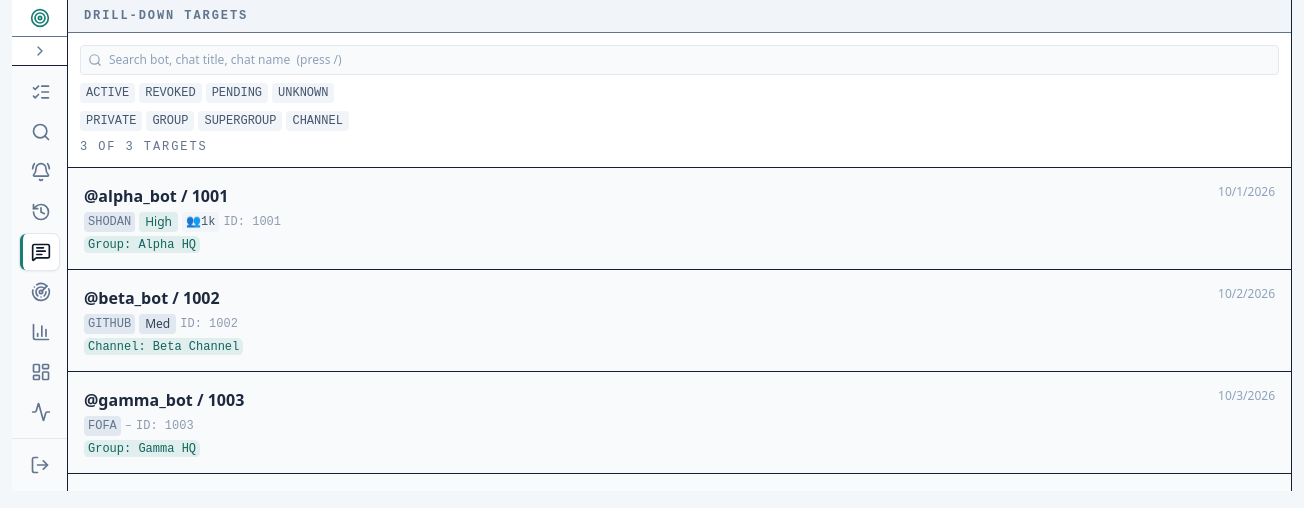
Test: Sidebar › combines a status chip with the text query using AND semantics
This screenshot has width=1304, height=508.
Expected: the text "3 of 3 targets" is shown, [80,140,208,154]
Step 1. Click the button "active" → (108, 93), box [80,83,135,103]
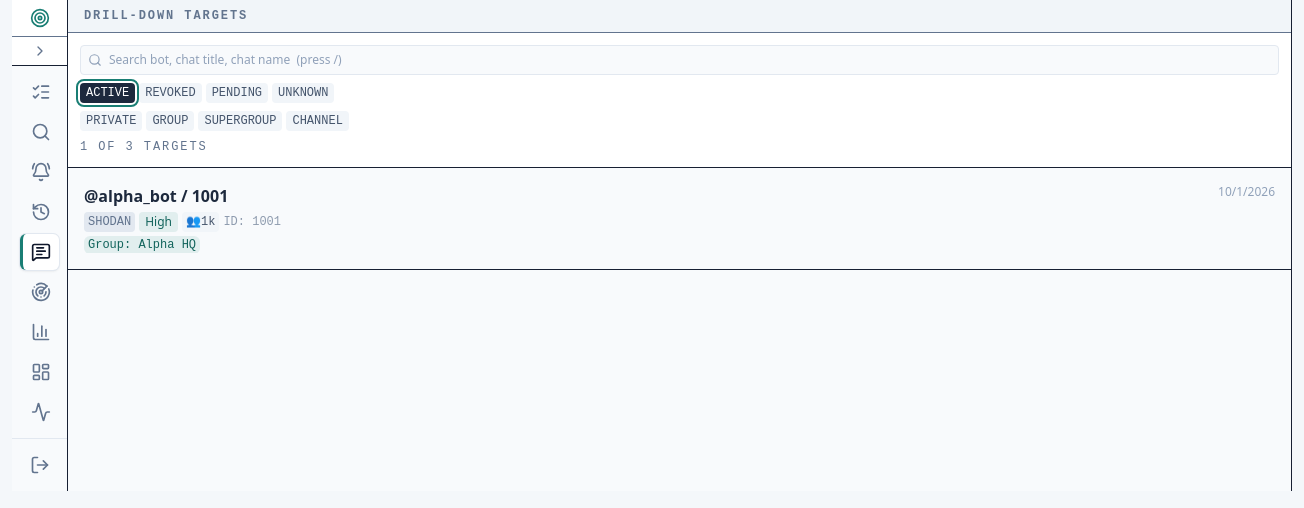
Expected: the text "1 of 3 targets" is shown, [80,140,208,154]
Step 2. Type "beta" into the search field named "Search targets" → (680, 60), box [80,45,1279,75]
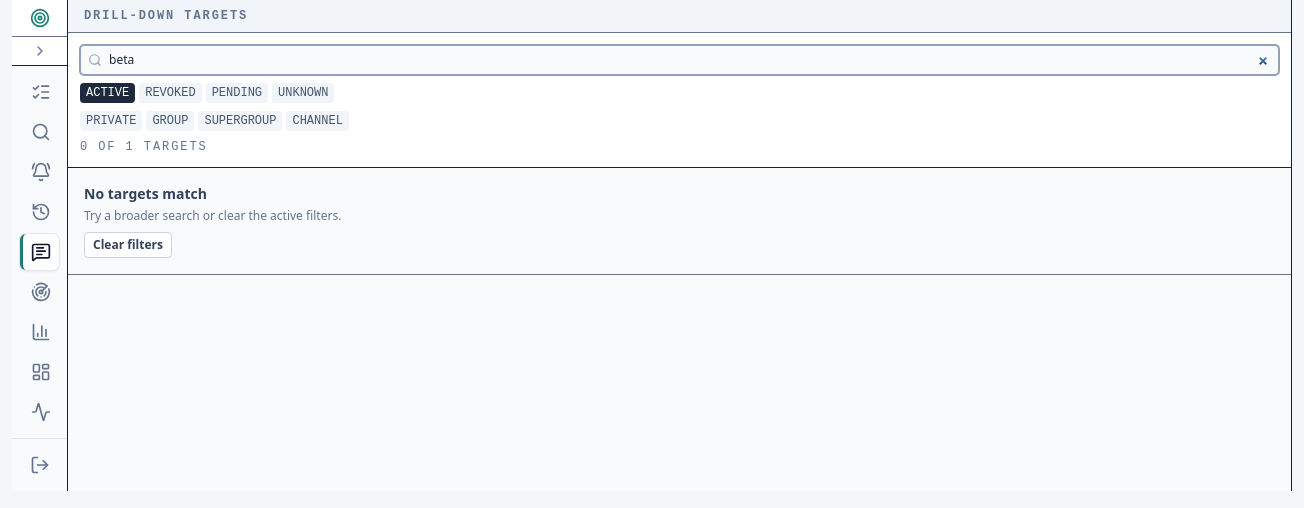
Expected: the text "0 of 1 targets" is shown, [80,140,208,154]
Expected: the text "No targets match" is shown, [84,184,207,203]
